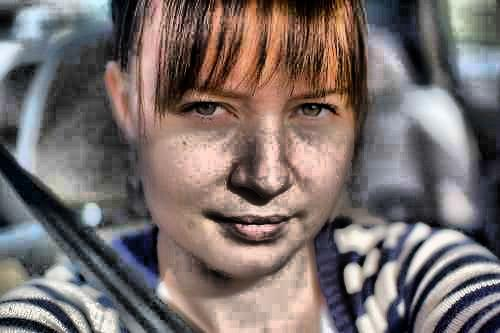seatbelt: (6, 147, 146, 302)
